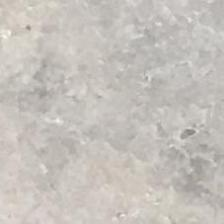Non_Crack: (18, 8, 208, 194)
